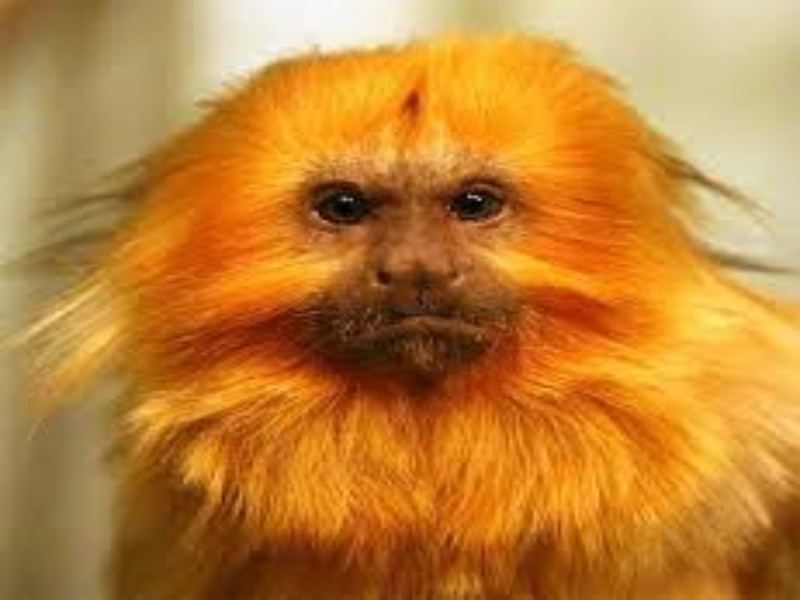monkey: (55, 41, 782, 584)
